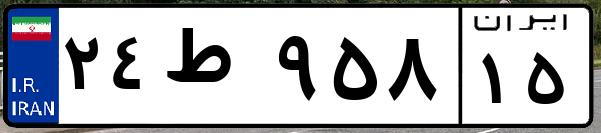1: (475, 38, 525, 113)
2: (57, 26, 110, 100)
4: (110, 28, 158, 98)
5: (330, 28, 385, 110), (525, 38, 570, 115)
8: (385, 28, 445, 110)
9: (270, 28, 330, 110)
ط: (158, 20, 270, 120)
